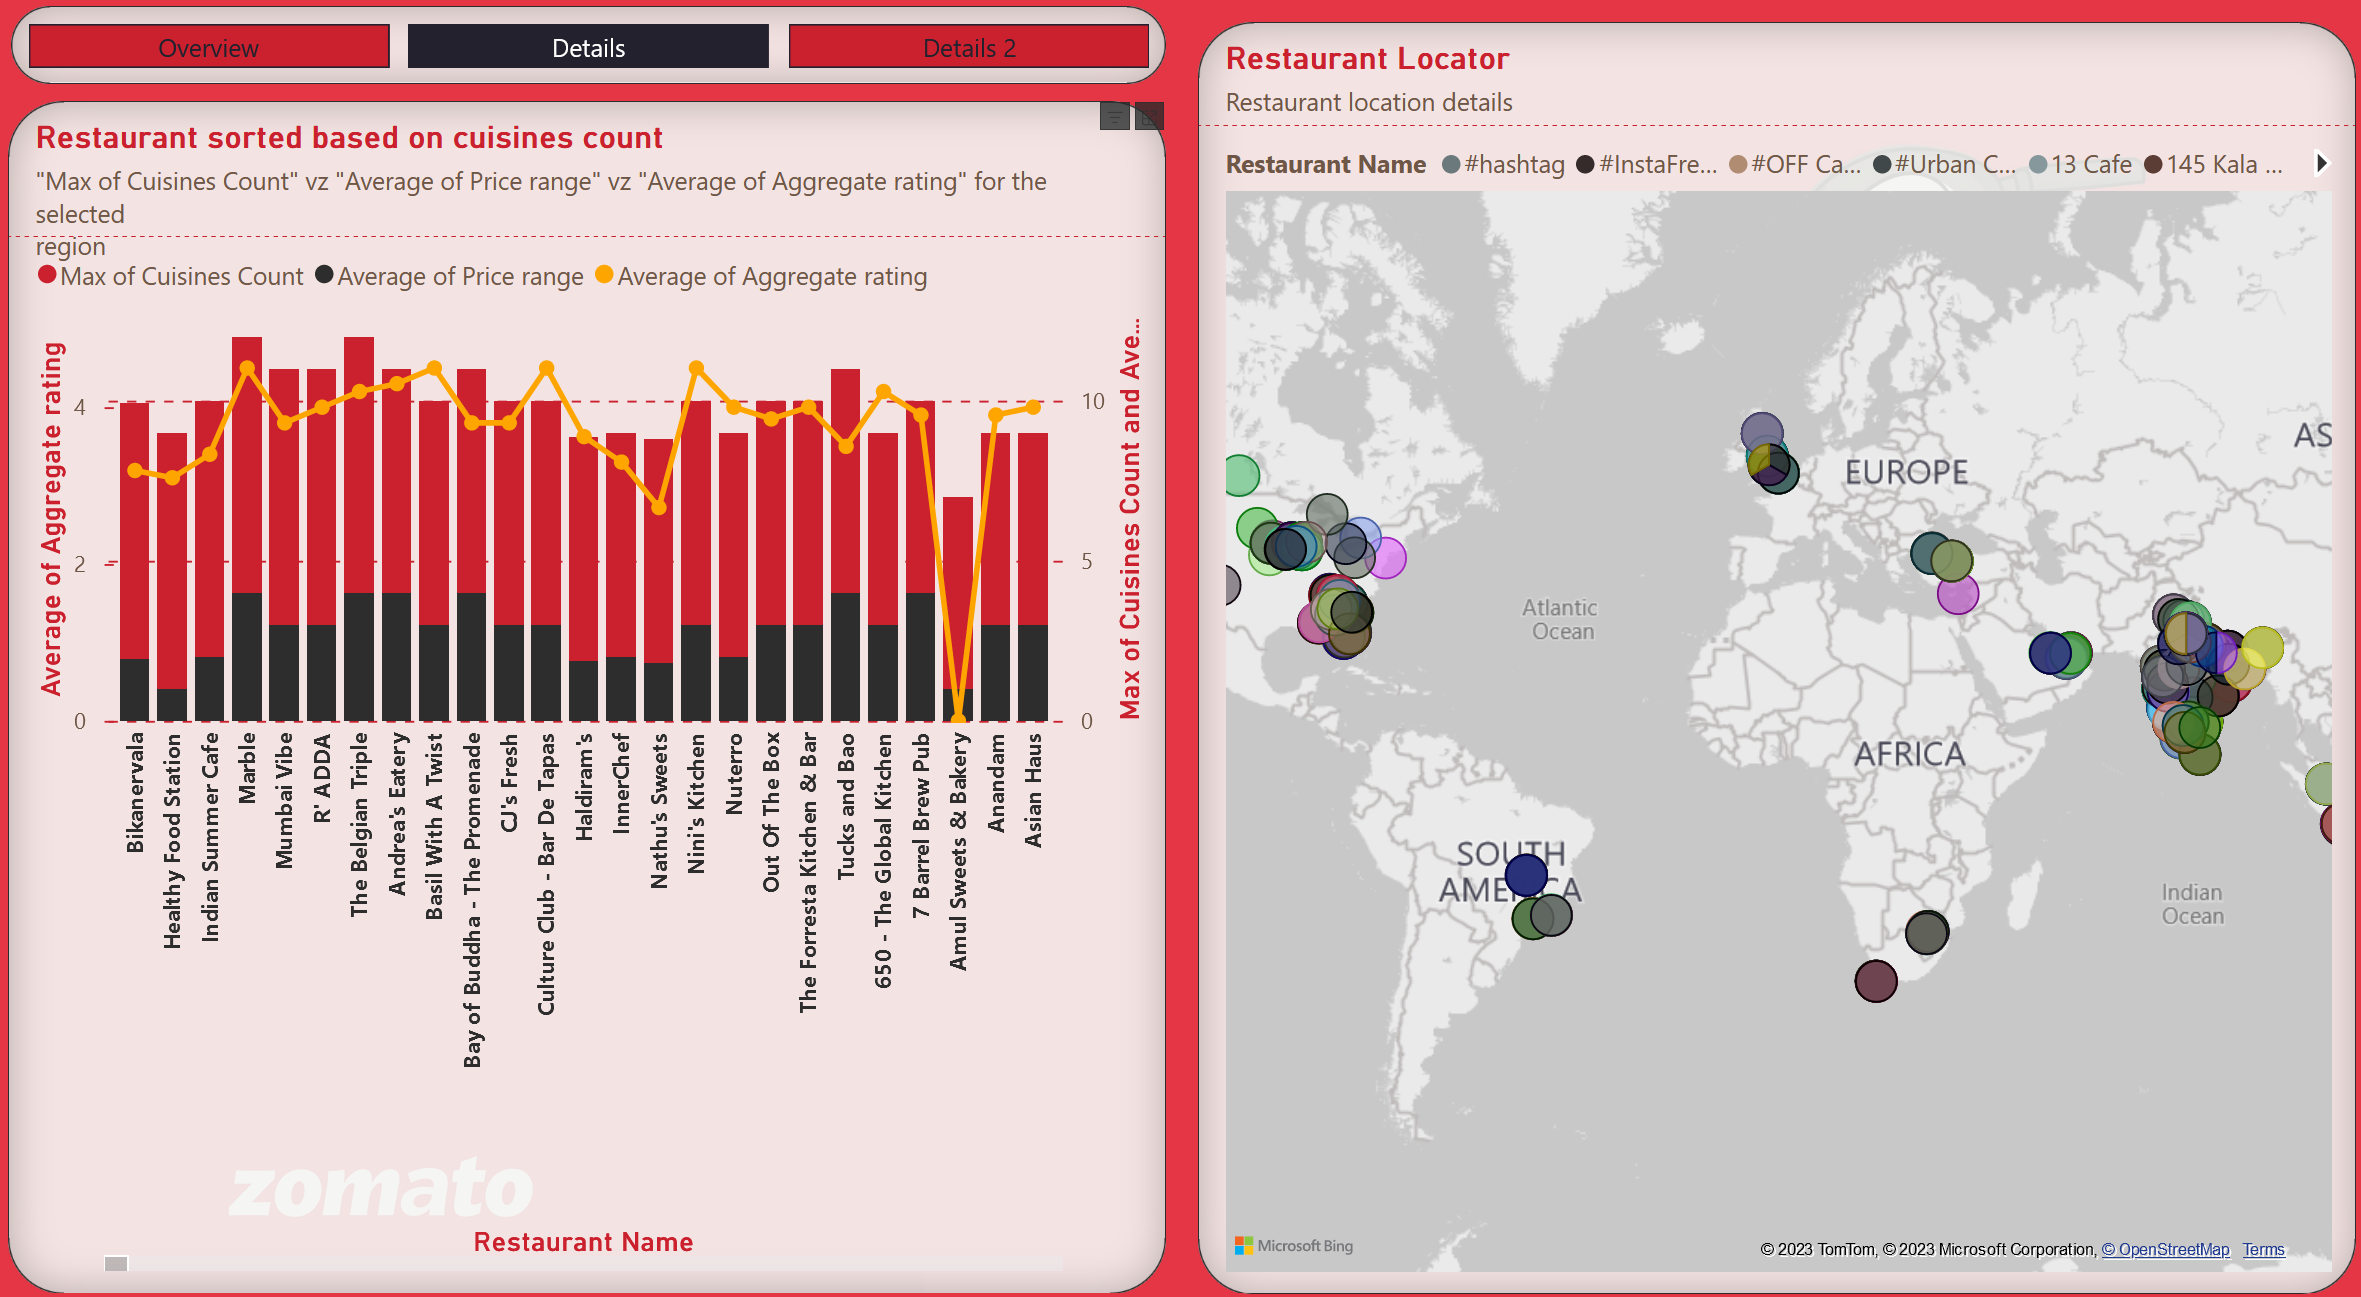

Layout of this report page (visuals, bound fields, positions):
{"tool":"powerbi","page":{"name":"Details","canvas":[1280,720],"ordinal":1},"visuals":[{"type":"lineStackedColumnComboChart","title":"Restaurant sorted based on cuisines count","fields":{"Category":["Master Table.Restaurant Name"],"Y":["Max(Cusines Table.Cuisines Count)","Avg(Master Table.Price range)"],"Y2":["Avg(Master Table.Aggregate rating)"]},"box":[8,58.9,625.2,644.1],"z":0},{"type":"map","title":"Restaurant Locator","fields":{"Y":["Logi and Lati.Latitude"],"X":["Logi and Lati.Longitude"],"Series":["Master Table.Restaurant Name"]},"box":[650.1,16.1,625,687.1],"z":4000},{"type":"pageNavigator","box":[9.5,7.3,623.7,42.2],"z":6000}]}

Visuals, with their boxes in screenshot pixels (x1, y1, x2, y2), scaled from the page's 1280x720 canvas onto the 2361x1297 screenshot:
"Restaurant sorted based on cuisines count" lineStackedColumnComboChart: 15 106 1168 1266
"Restaurant Locator" map: 1199 29 2352 1267
pageNavigator: 18 13 1168 89
